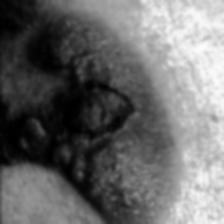Potentially Malignant Skin Tumors: (0, 11, 185, 224)
